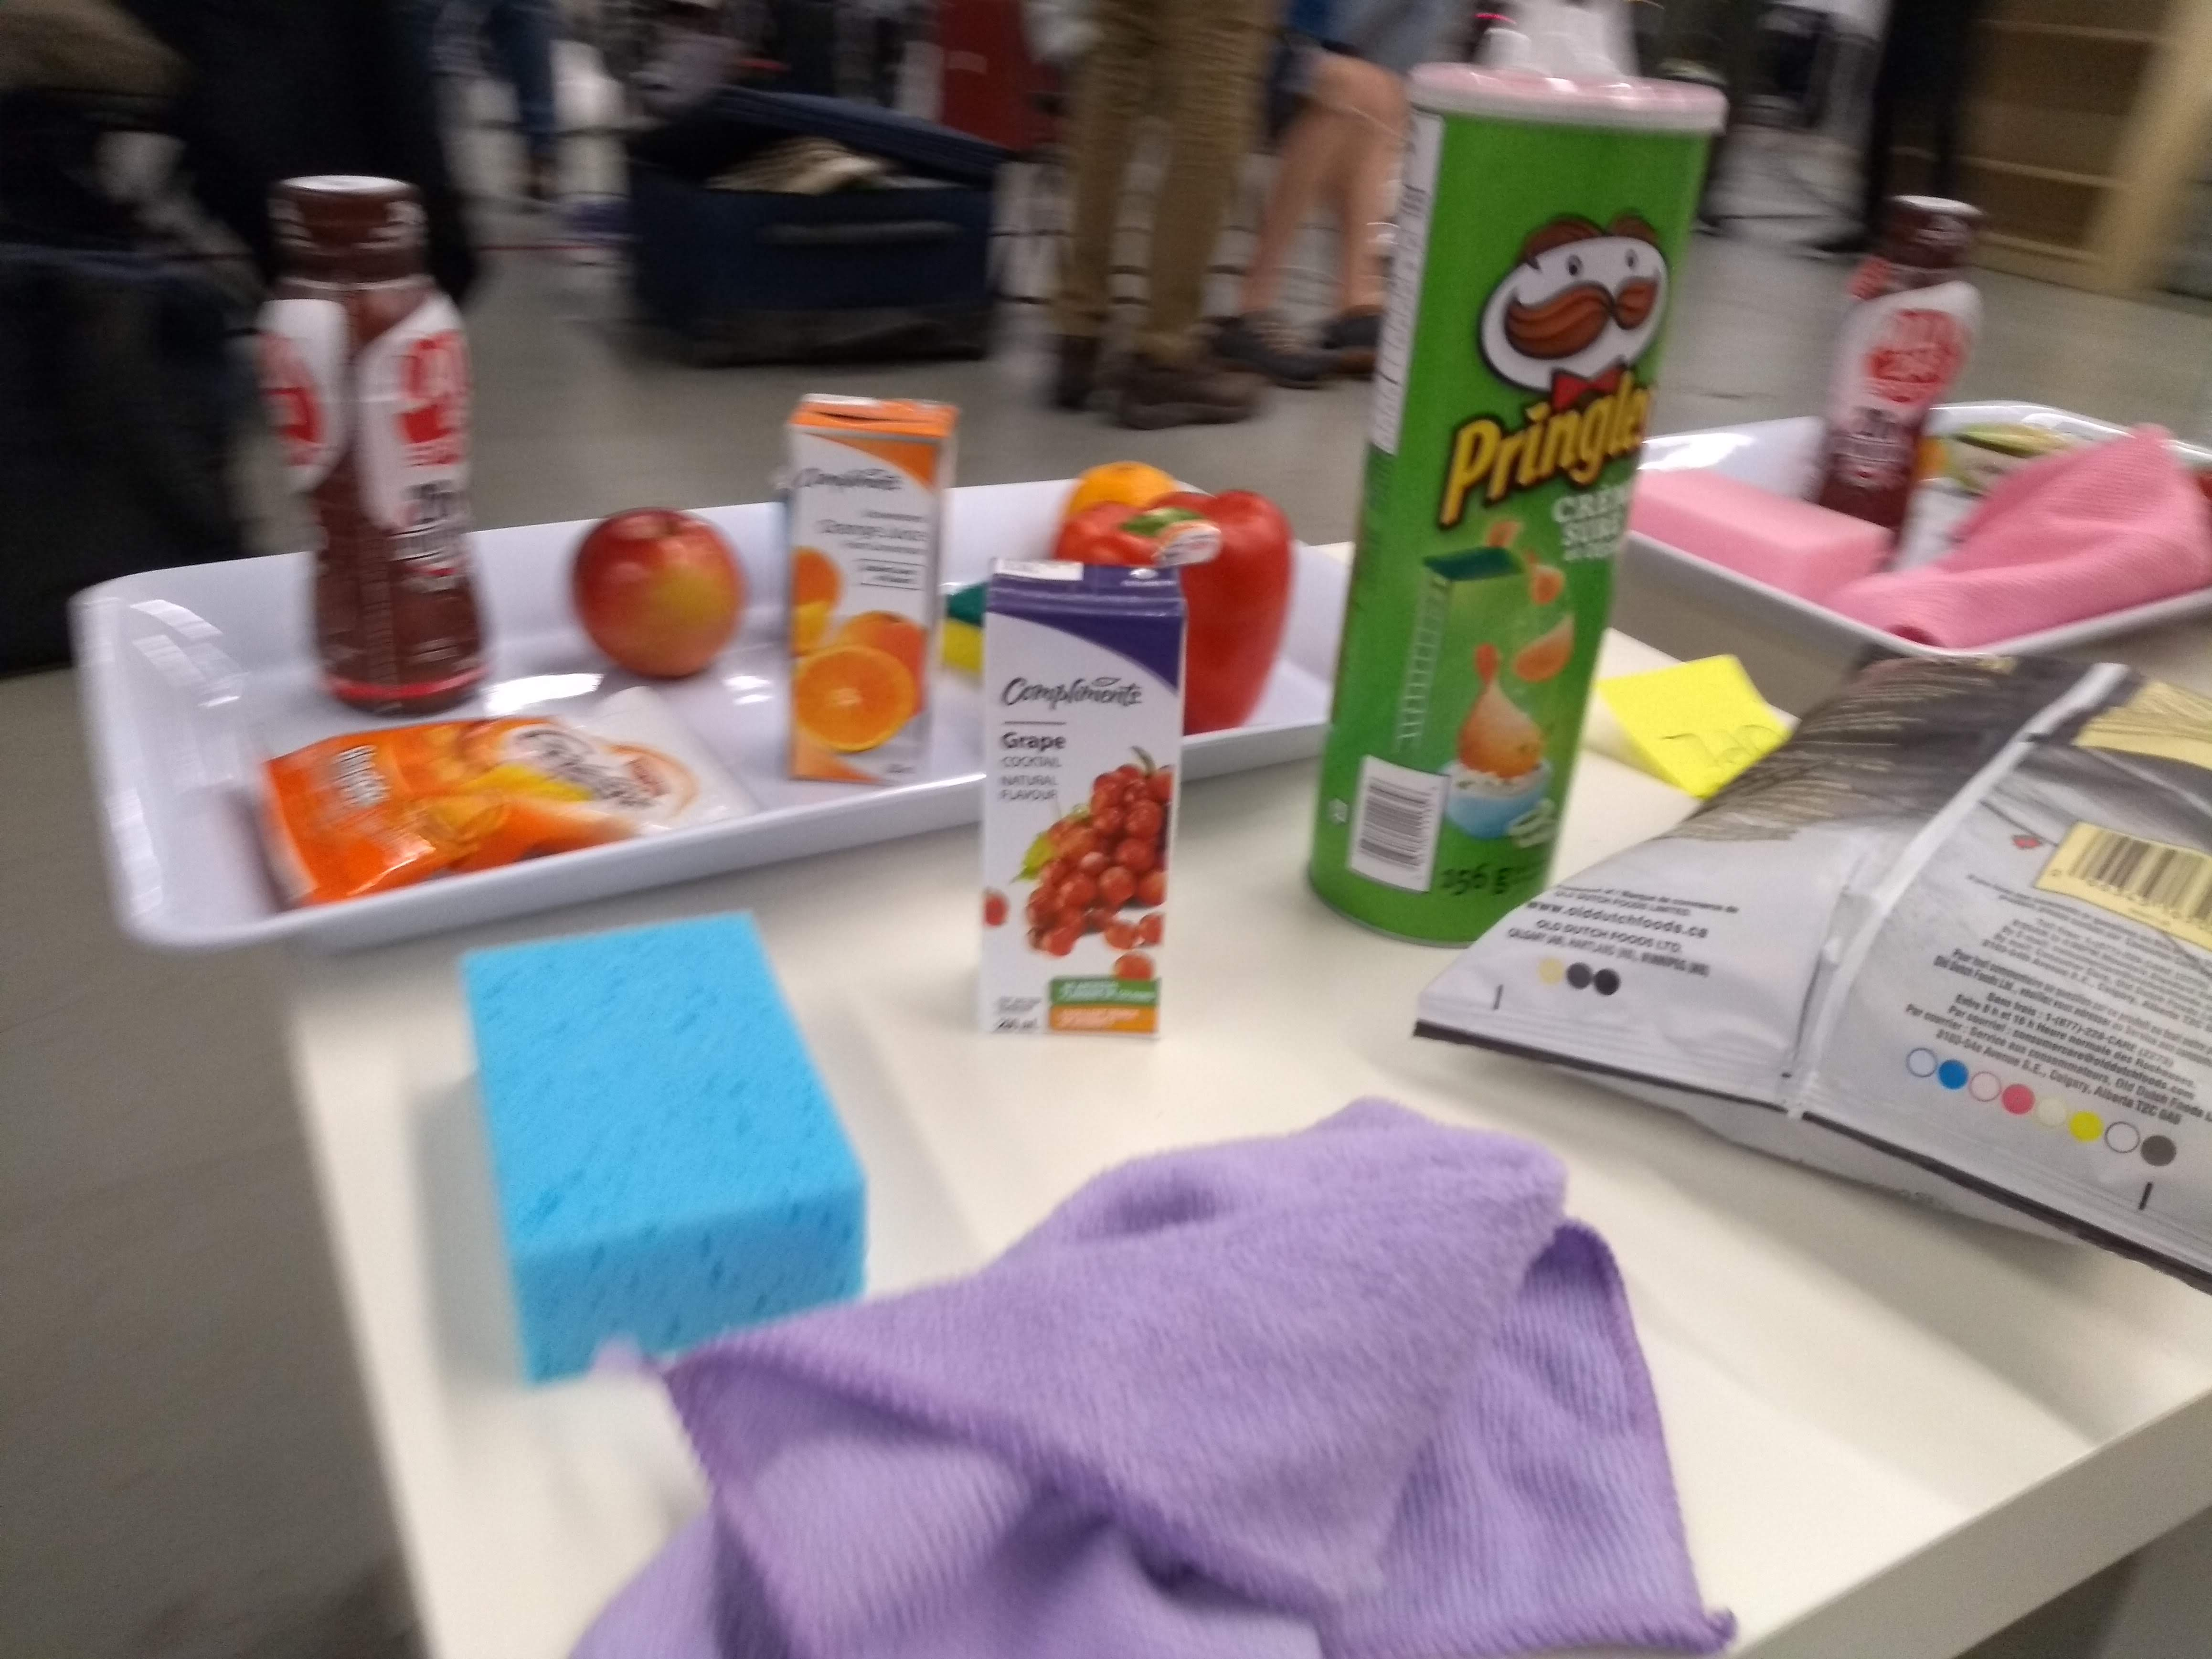apple: (566, 498, 758, 690)
chocolate_drink: (246, 160, 507, 727)
crackers: (232, 685, 763, 913)
grape_juice: (965, 554, 1200, 1049)
orange_juice: (775, 382, 970, 793)
pringles: (1291, 49, 1740, 955)
sponge_opl: (441, 903, 876, 1403)
